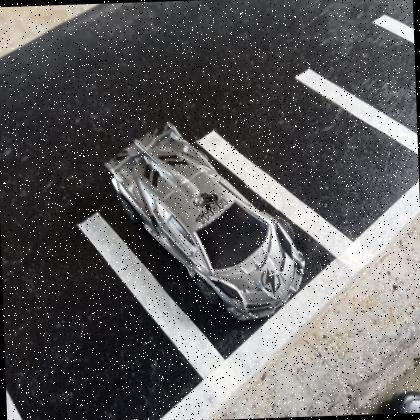Car: (105, 123, 310, 326)
